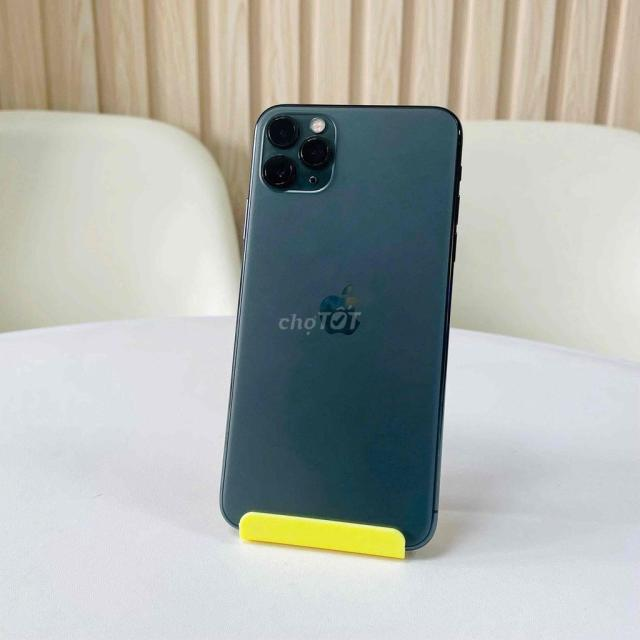gen_11: (216, 100, 467, 545)
